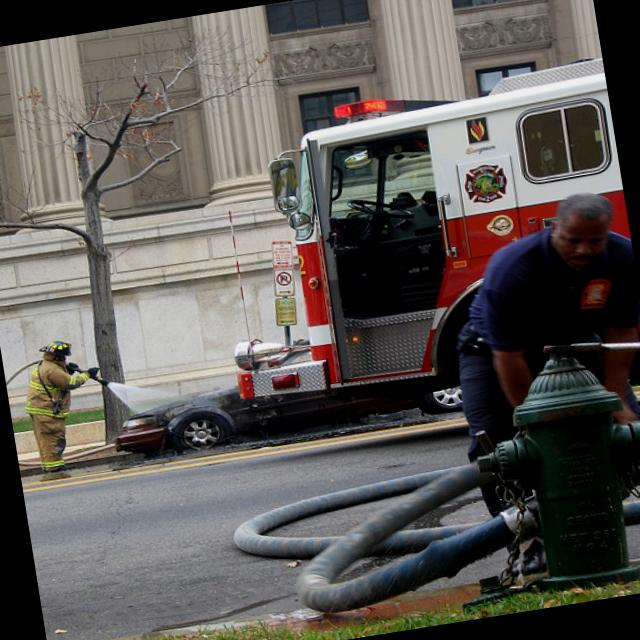Vehicle: (200, 55, 640, 470), (108, 358, 422, 464)
